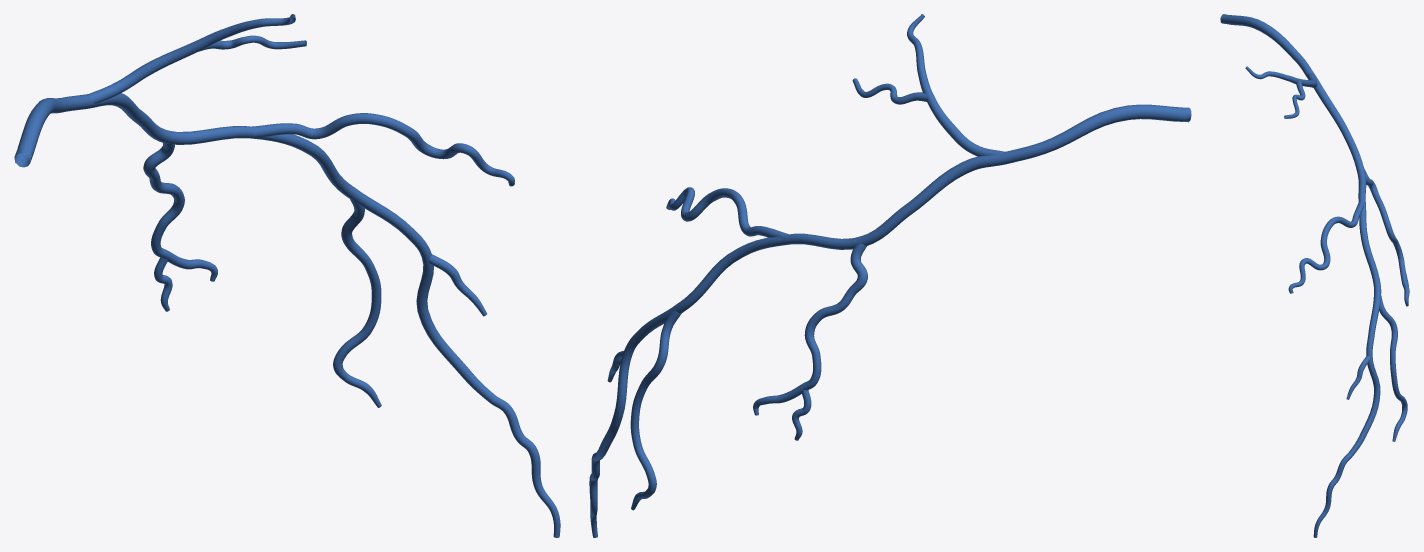
3 renders of one model, left to right at view 1: azimuth 30°, elevation 25°; view 2: azimuth 150°, elevation 25°; view 3: azimuth 270°, elevation 25°, orthographic. The views are drawn at different scales.
Visible parts, largest first — view 1: 左心室后静脉; view 2: 左心室后静脉; view 3: 左心室后静脉.
Boxes of the visible parts, left/top/right/bottom form: 左心室后静脉: left=14, top=14, right=560, bottom=537; 左心室后静脉: left=589, top=14, right=1191, bottom=537; 左心室后静脉: left=1220, top=14, right=1409, bottom=537.
Bounding box in the file's own units: 0.0869 × 0.0861 × 0.039.
